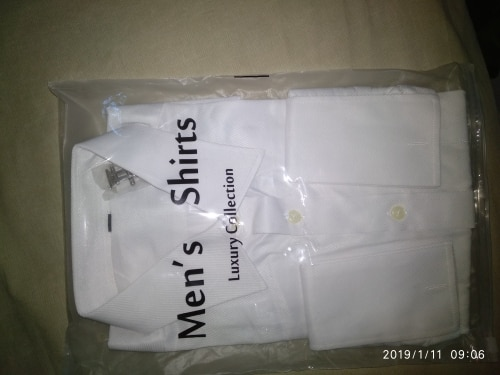shirts: (97, 76, 454, 358)
